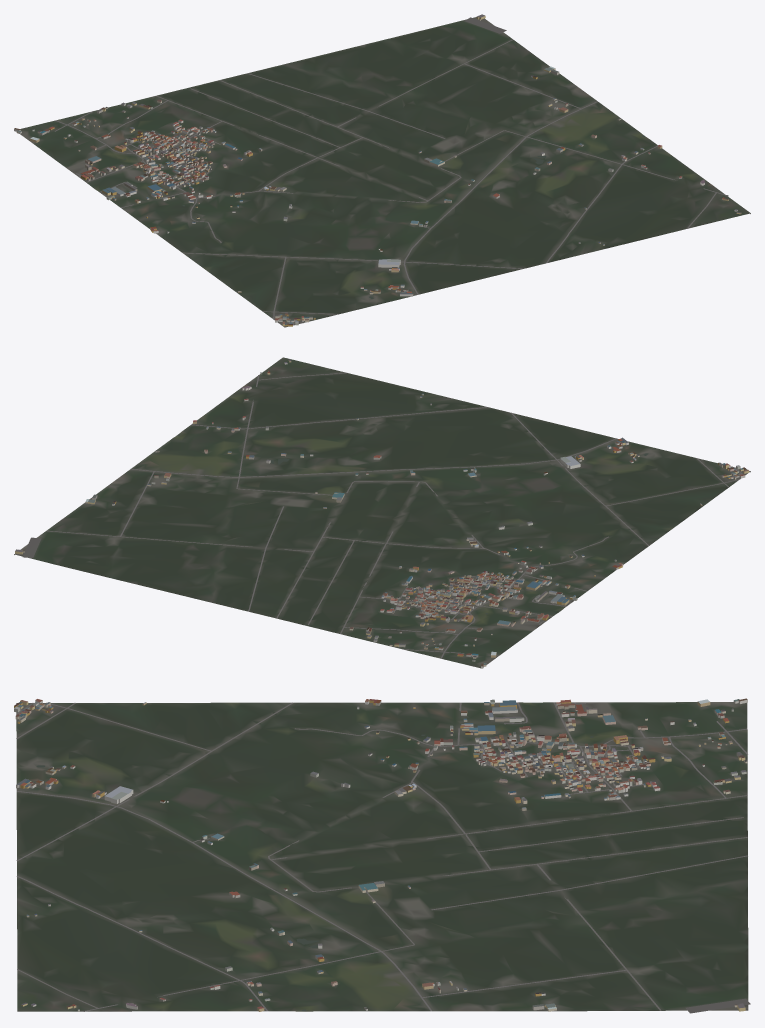
The picture shows the model from 3 angles, top to bottom: view 1: azimuth 30°, elevation 25°; view 2: azimuth 150°, elevation 25°; view 3: azimuth 270°, elevation 25°; orthographic projection. The views are drawn at different scales.
Parts seen in each view (by area): view 1: ground, buildings, roads; view 2: ground, buildings, roads; view 3: ground, buildings, roads.
Part boxes in pixels (box(x1,y1,x2,y2)): ground: box(20, 17, 750, 327); buildings: box(14, 14, 741, 326); roads: box(54, 17, 726, 325); ground: box(14, 357, 750, 668); buildings: box(15, 359, 749, 668); roads: box(23, 372, 742, 658); ground: box(16, 702, 748, 1011); buildings: box(14, 698, 747, 1011); roads: box(16, 702, 750, 1013).
Bounding box in the file's own units: 1420 × 16.96 × 1413.
